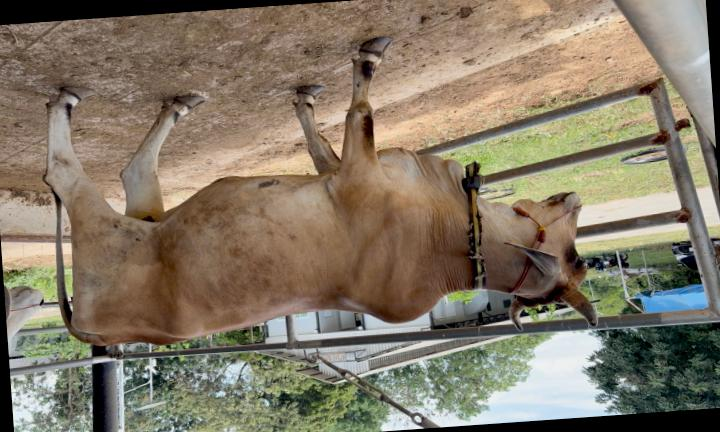Brahman: (45, 38, 598, 345)
